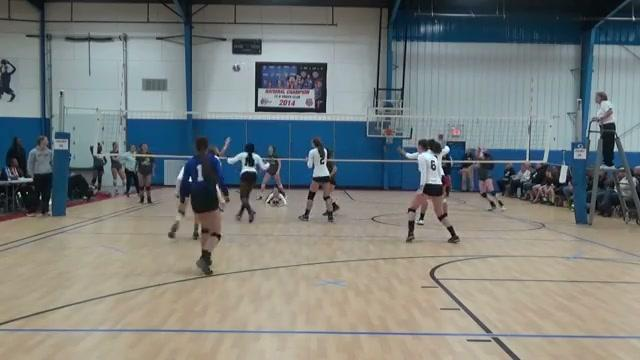ball: (231, 62, 241, 73)
